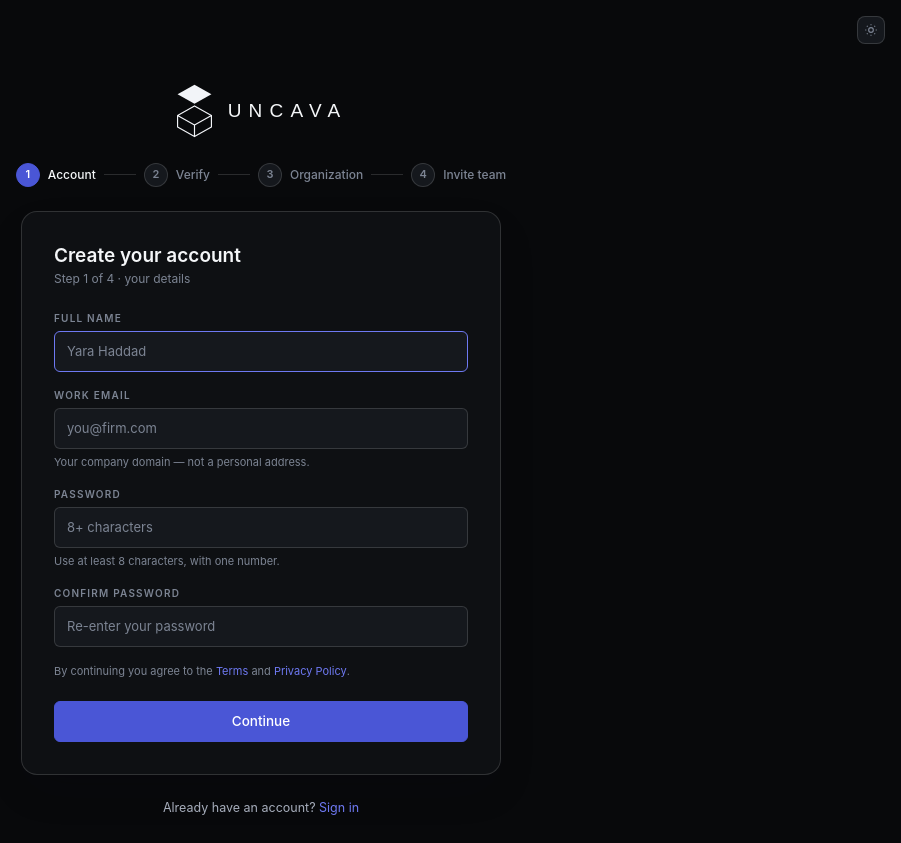
Scenario: SignupPage › rejects a password with no number, in the mockup's own words
Type "Alok Kumar" into the field with placeholder "Yara Haddad".
click(261, 352); type("Alok Kumar")  # box [54, 332, 468, 372]
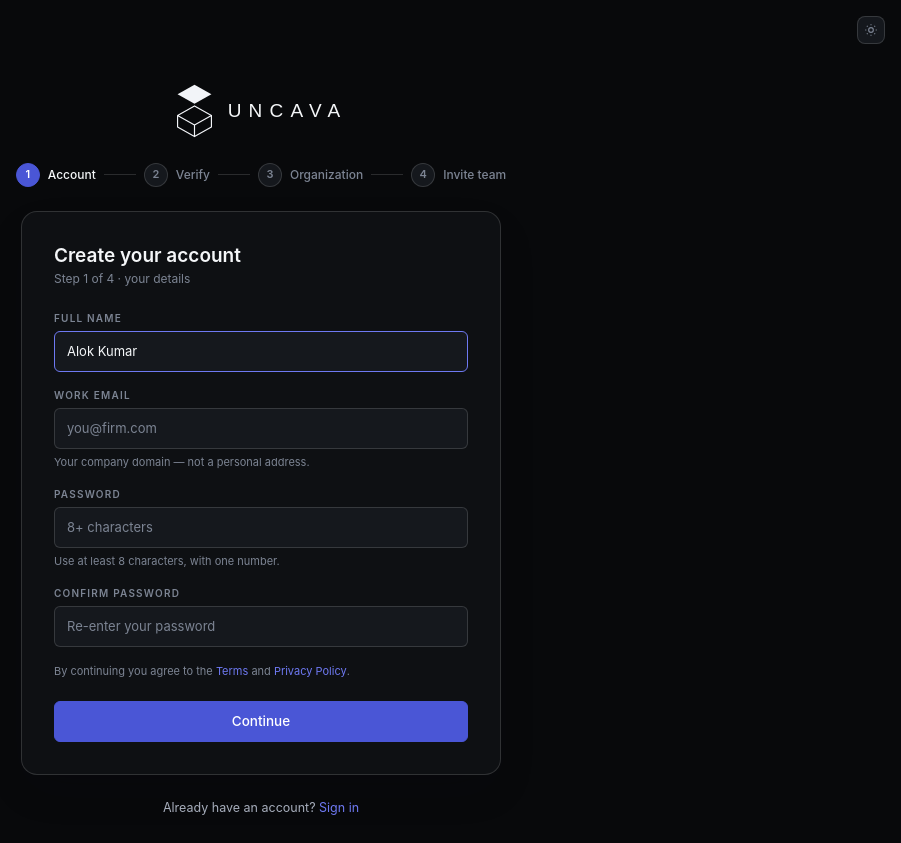
Type "alok@nextwebspark.com" into the field with placeholder "you@firm.com".
click(261, 429); type("alok@nextwebspark.com")  # box [54, 408, 468, 449]
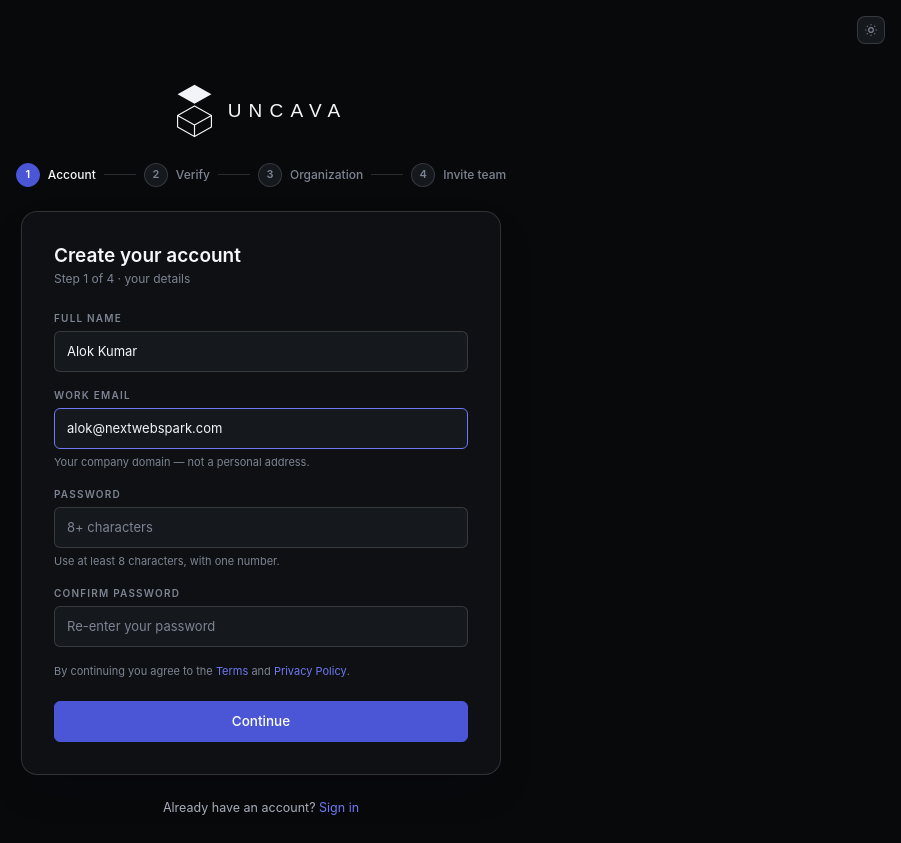
Type "password" into the password field with placeholder "8+ characters".
click(261, 528); type("password")  # box [54, 507, 468, 548]
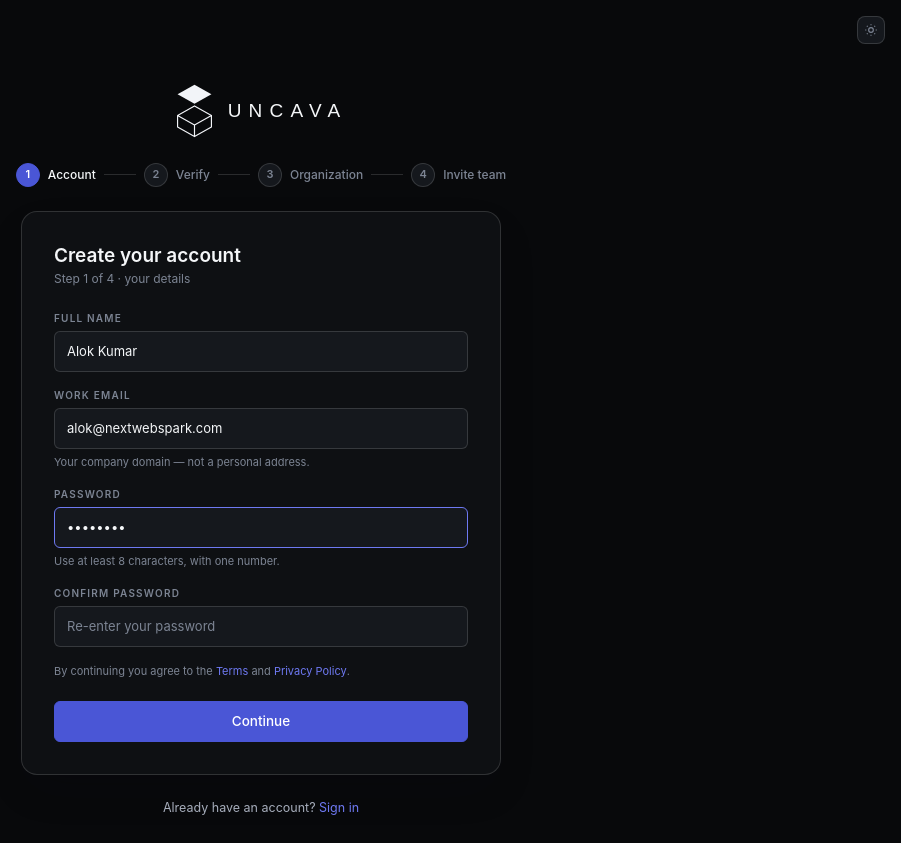
Click the button "Continue".
click(261, 721)  # box [54, 701, 468, 742]
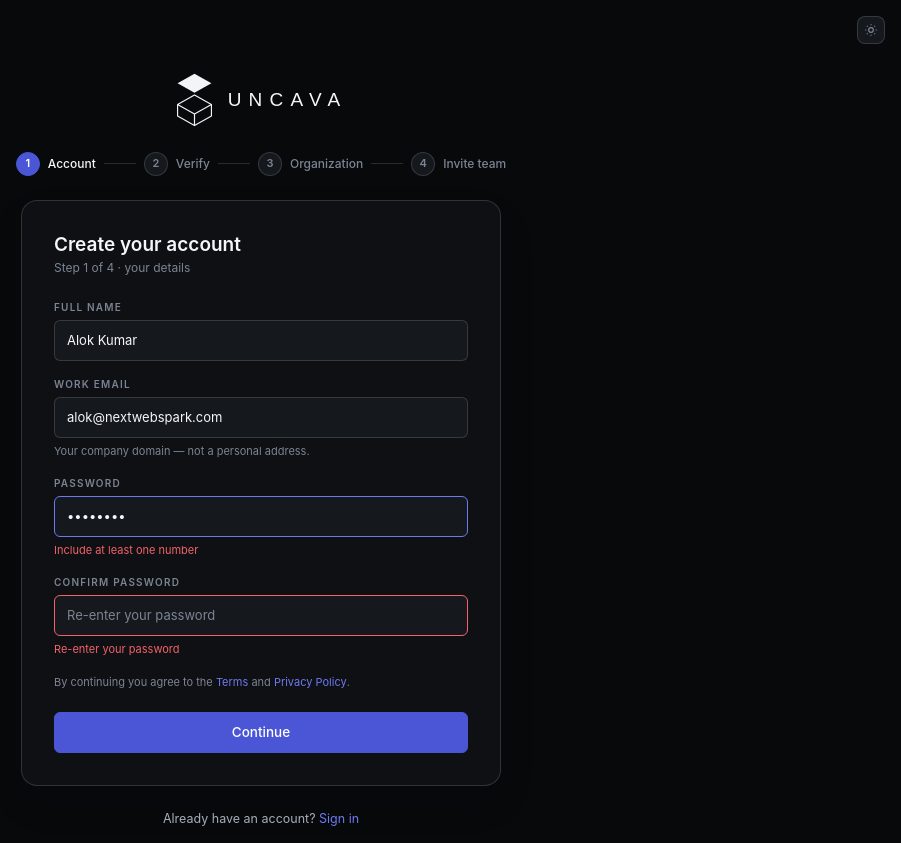
expect the text "Include at least one number" is shown: met, box [54, 543, 198, 557]
